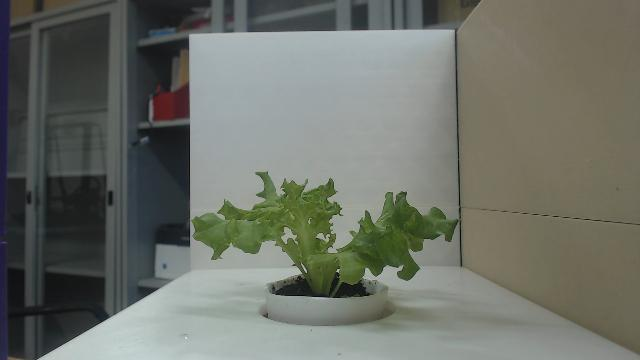Vegetative Stage: (190, 170, 462, 300)
